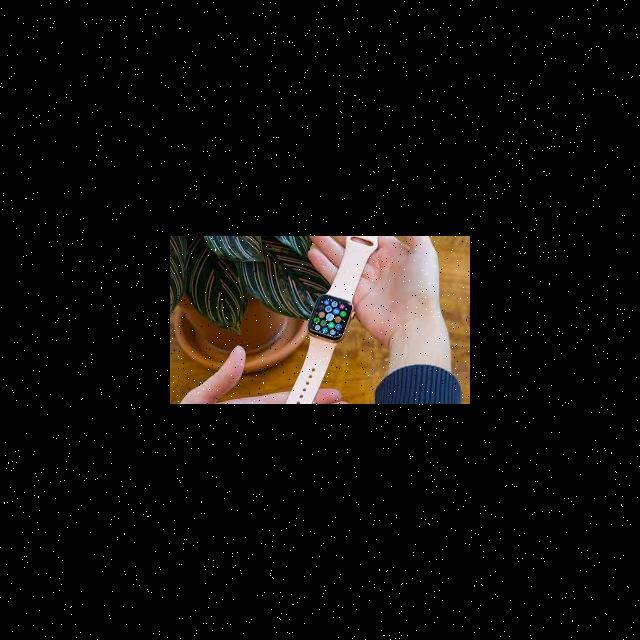watch: (295, 235, 360, 412)
